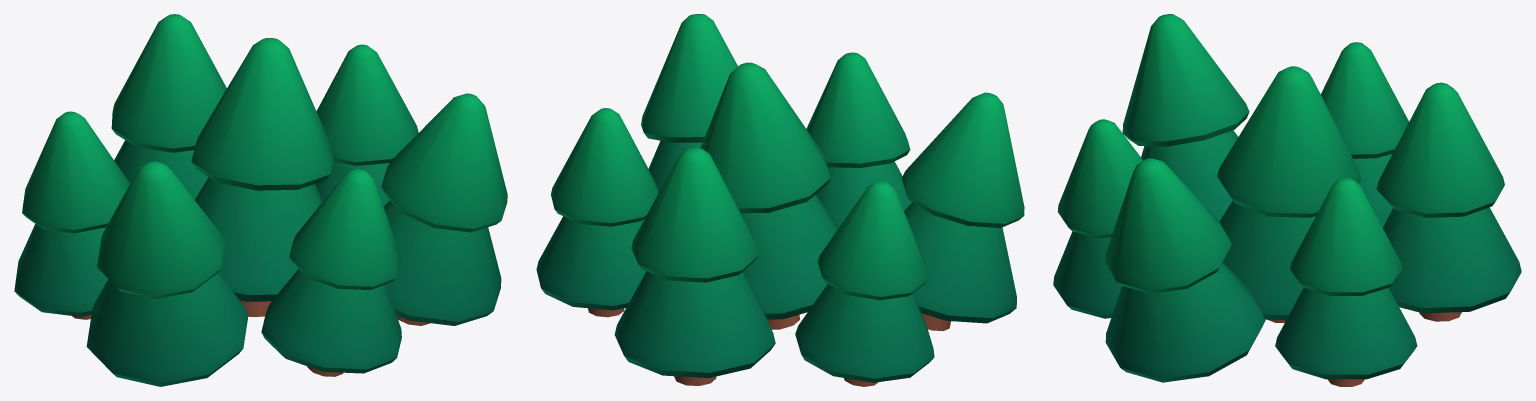
File: hex-trees_B_large.glb
3 renders of one model, left to right at view 1: azimuth 30°, elevation 25°; view 2: azimuth 150°, elevation 25°; view 3: azimuth 270°, elevation 25°, orthographic. The views are drawn at different scales.
Visible parts, largest first — view 1: trees_B_large; view 2: trees_B_large; view 3: trees_B_large.
Boxes of the visible parts, <box> form: trees_B_large: <box>14,14,507,386</box>; trees_B_large: <box>536,14,1024,386</box>; trees_B_large: <box>1053,14,1521,386</box>.
Bounding box in the file's own units: 1.85 × 1.17 × 1.93.
1 material, 1 textured.
